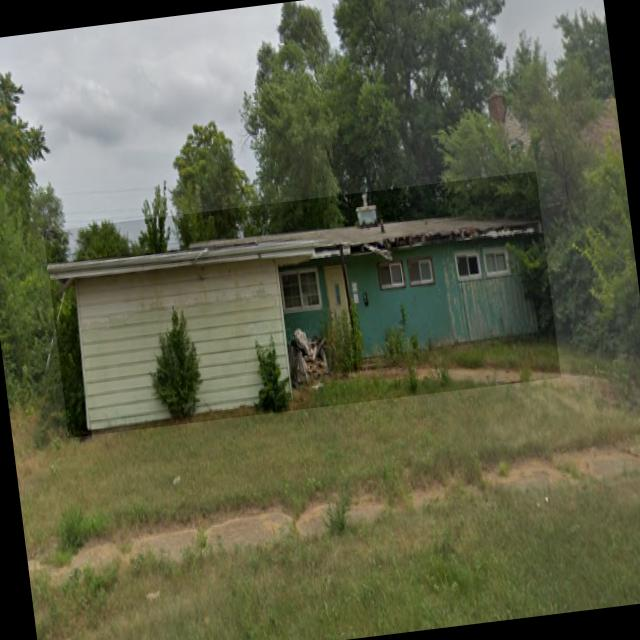House: (44, 170, 562, 438)
